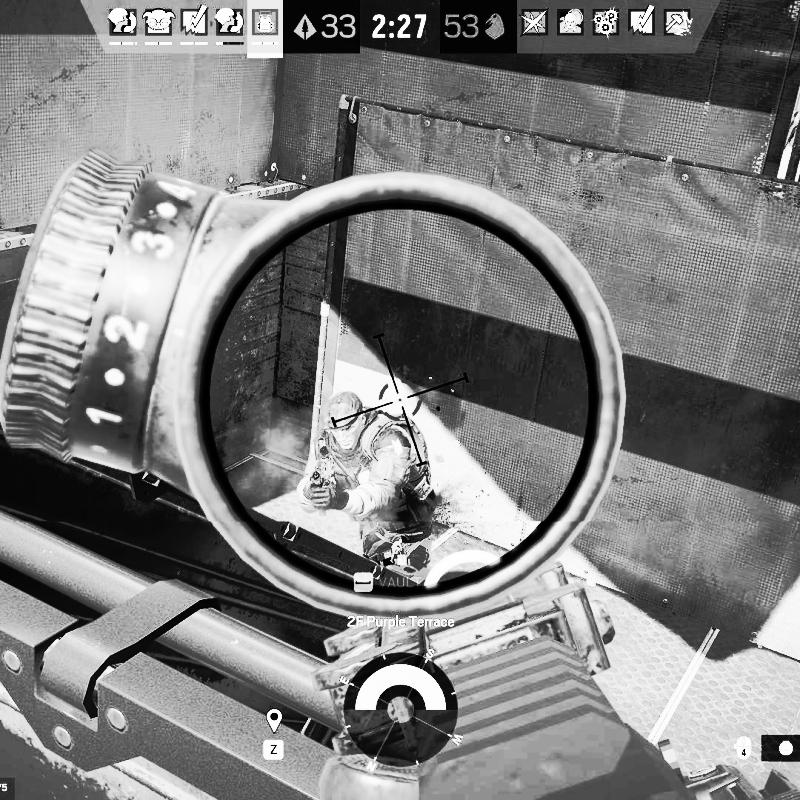Character: (295, 385, 438, 594)
Head: (322, 388, 372, 453)
